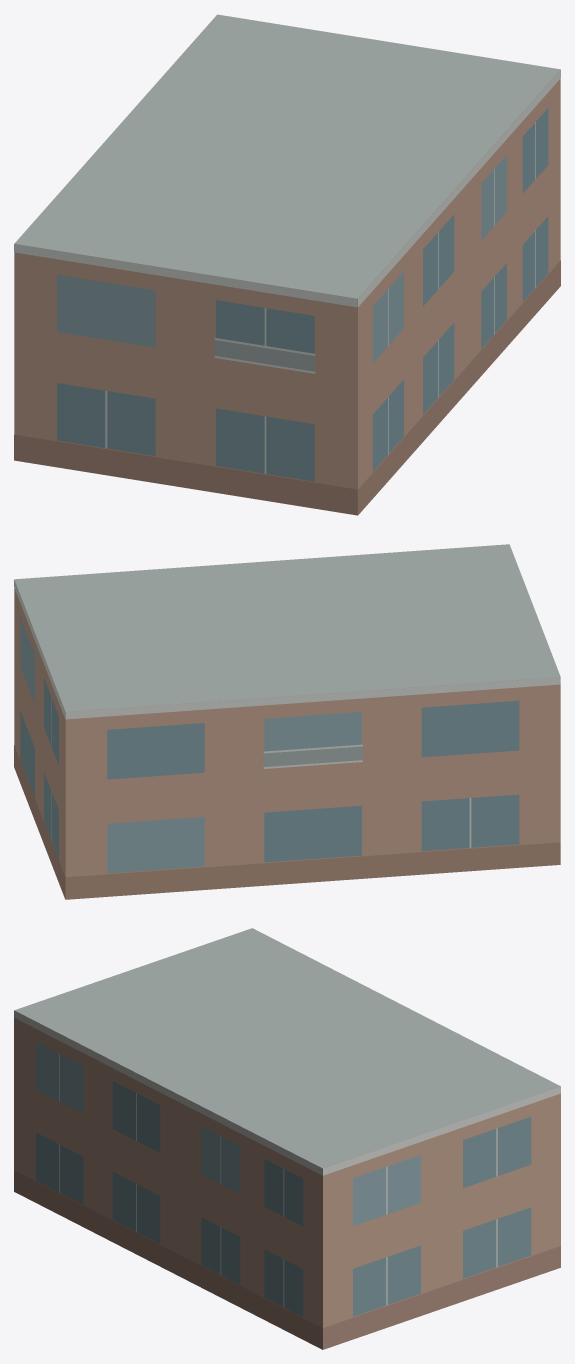
File: survey-upis-32820542.glb
3 renders of one model, top to bottom at view 1: azimuth 30°, elevation 25°; view 2: azimuth 150°, elevation 25°; view 3: azimuth 270°, elevation 25°, orthographic. The views are drawn at different scales.
Parts seen in each view (by area): view 1: survey-upis-32820542.tmp; view 2: survey-upis-32820542.tmp; view 3: survey-upis-32820542.tmp.
Part boxes in pixels (x1=…): survey-upis-32820542.tmp: x1=14, y1=14, x2=560, y2=515; survey-upis-32820542.tmp: x1=14, y1=544, x2=560, y2=899; survey-upis-32820542.tmp: x1=14, y1=928, x2=560, y2=1349.
Bounding box in the file's own units: 17.35 × 6.1 × 16.67.
